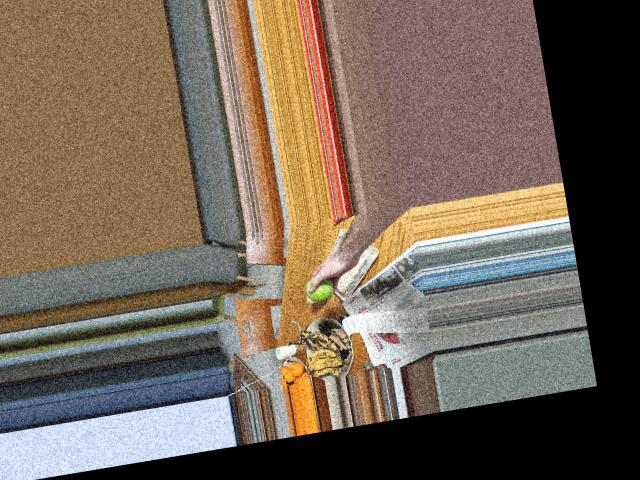apple: (302, 271, 338, 304)
